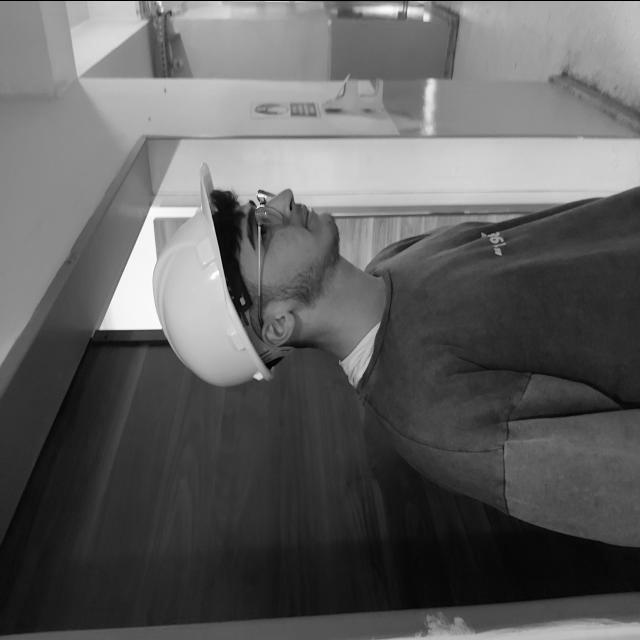construction helmet: (154, 163, 290, 387)
